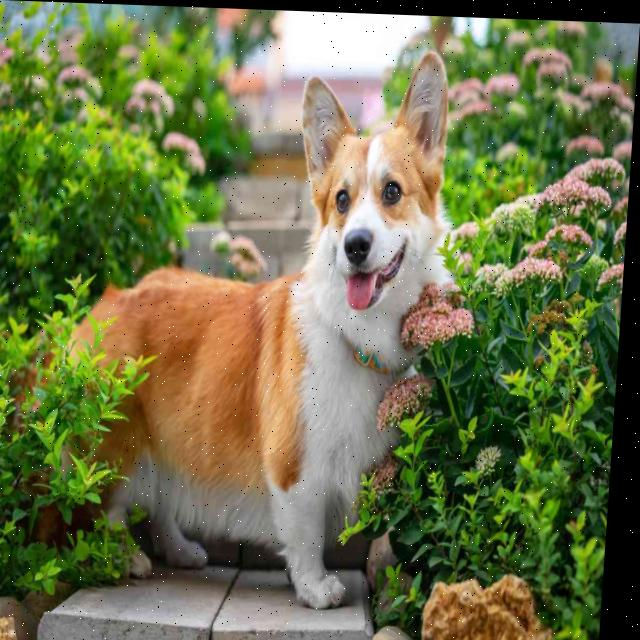CORGI: (14, 37, 463, 601)
